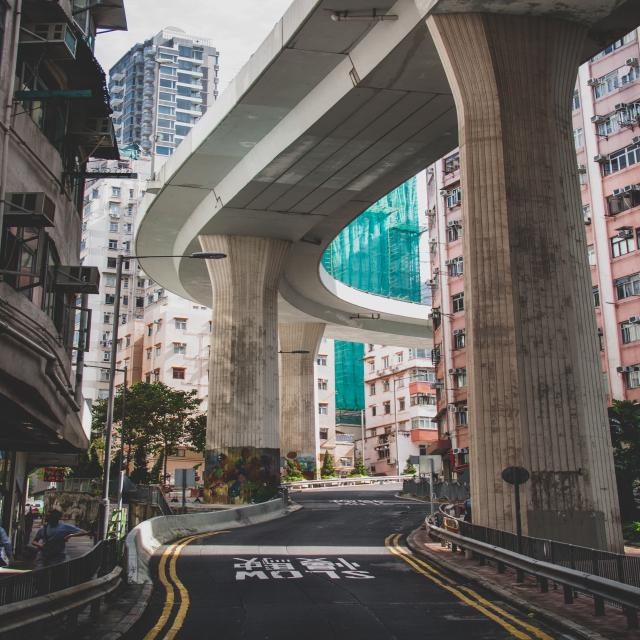Concrete: (131, 0, 639, 584)
